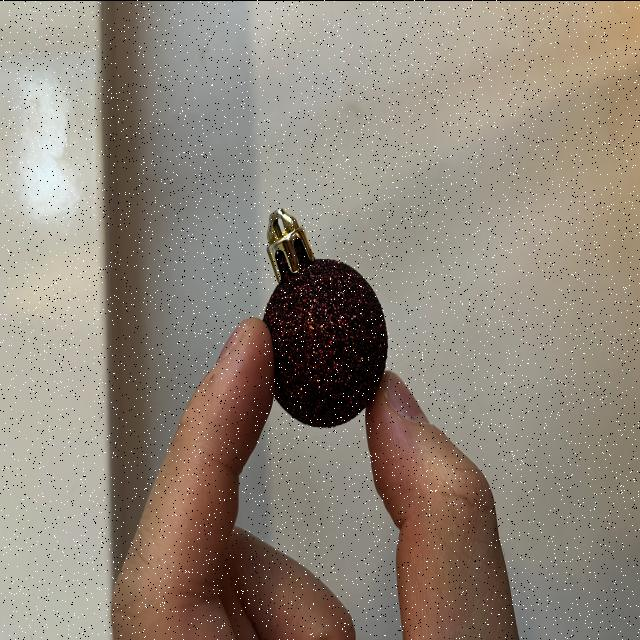glitter-bauble: (235, 196, 399, 452), (263, 209, 391, 428)
